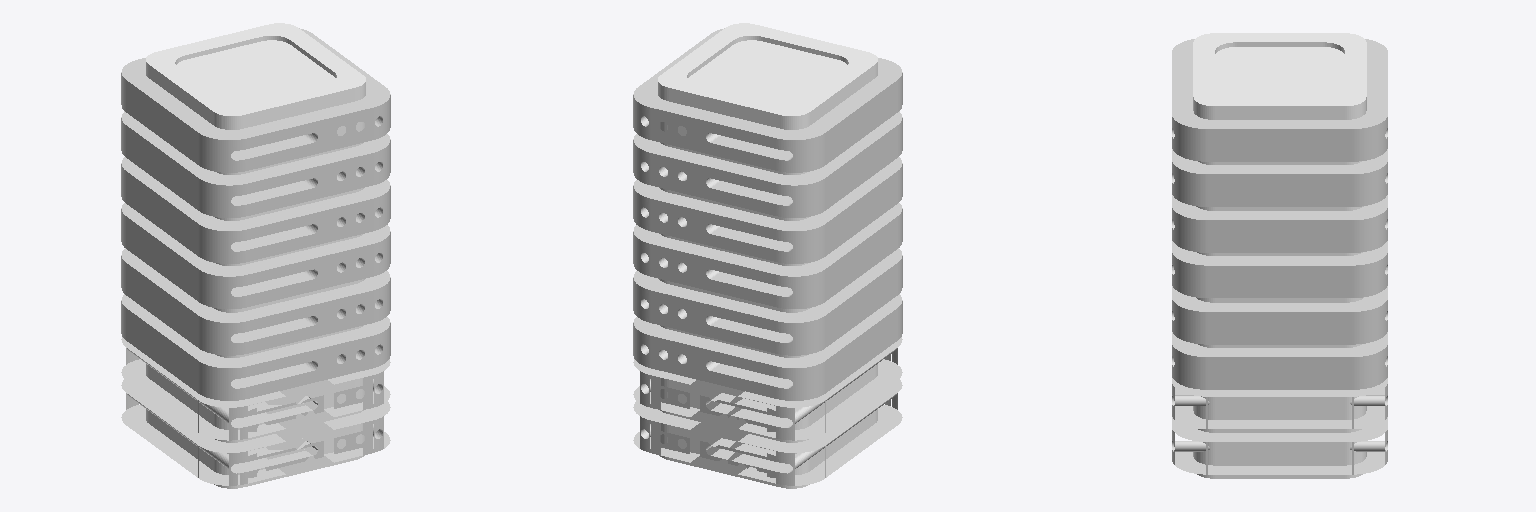
Rendered from server.obj.
3 views of the same model, side by side, from view 1: azimuth 30°, elevation 25°; view 2: azimuth 150°, elevation 25°; view 3: azimuth 270°, elevation 25° (orthographic).
Parts seen in each view (by area): view 1: glow, serverbody; view 2: glow, serverbody; view 3: glow, serverbody.
Boxes of the visible parts, x1=… form: glow: x1=121, y1=28, x2=390, y2=485; serverbody: x1=146, y1=23, x2=365, y2=488; glow: x1=633, y1=28, x2=902, y2=485; serverbody: x1=658, y1=23, x2=877, y2=488; glow: x1=1172, y1=39, x2=1387, y2=474; serverbody: x1=1193, y1=33, x2=1366, y2=478.
Size of the model in its own units: 10 by 19 by 10.